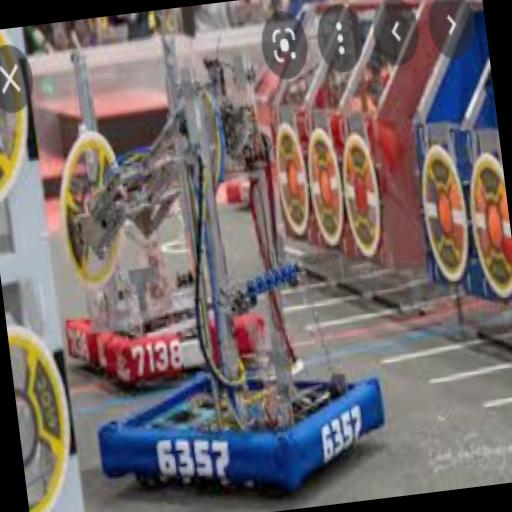robot: (54, 16, 396, 510), (38, 108, 271, 380)
